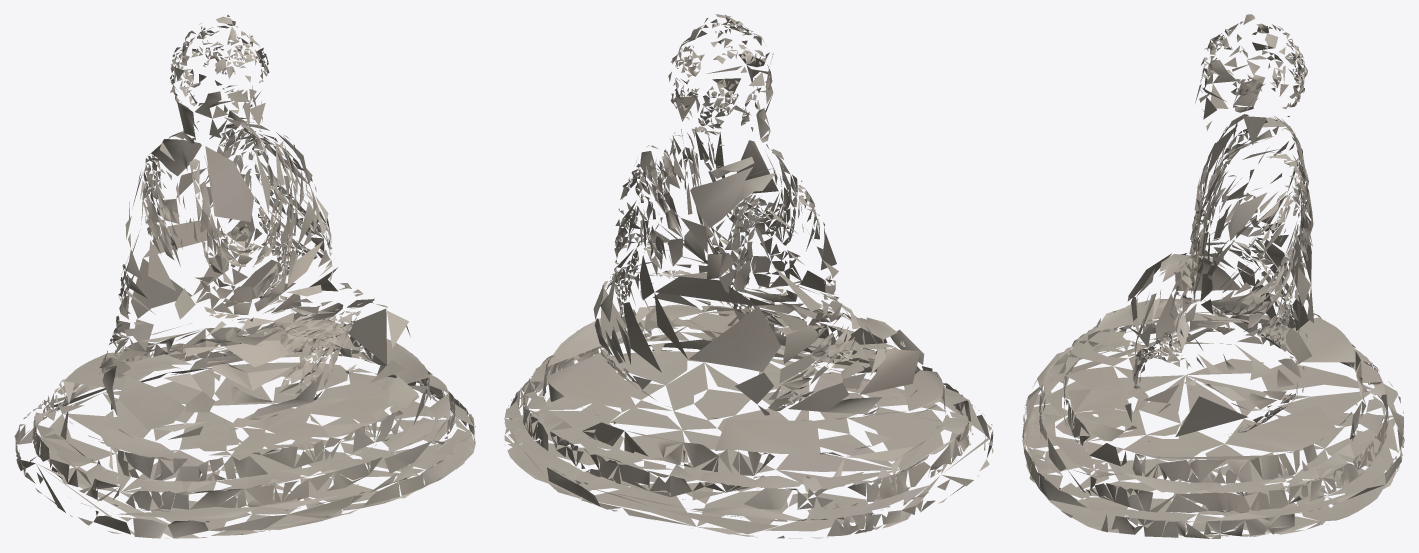
Rendered from far.glb.
The picture shows the model from 3 angles, left to right: view 1: azimuth 30°, elevation 25°; view 2: azimuth 150°, elevation 25°; view 3: azimuth 270°, elevation 25°; orthographic projection. The views are drawn at different scales.
Visible parts, largest first — view 1: statue-029; view 2: statue-029; view 3: statue-029.
Boxes of the visible parts, x1,y1,x2,y2 form: statue-029: [14, 14, 475, 538]; statue-029: [504, 14, 993, 538]; statue-029: [1022, 14, 1404, 538].
Bounding box in the file's own units: 0.9782 × 0.9976 × 0.8097.
1 material, 1 textured.
